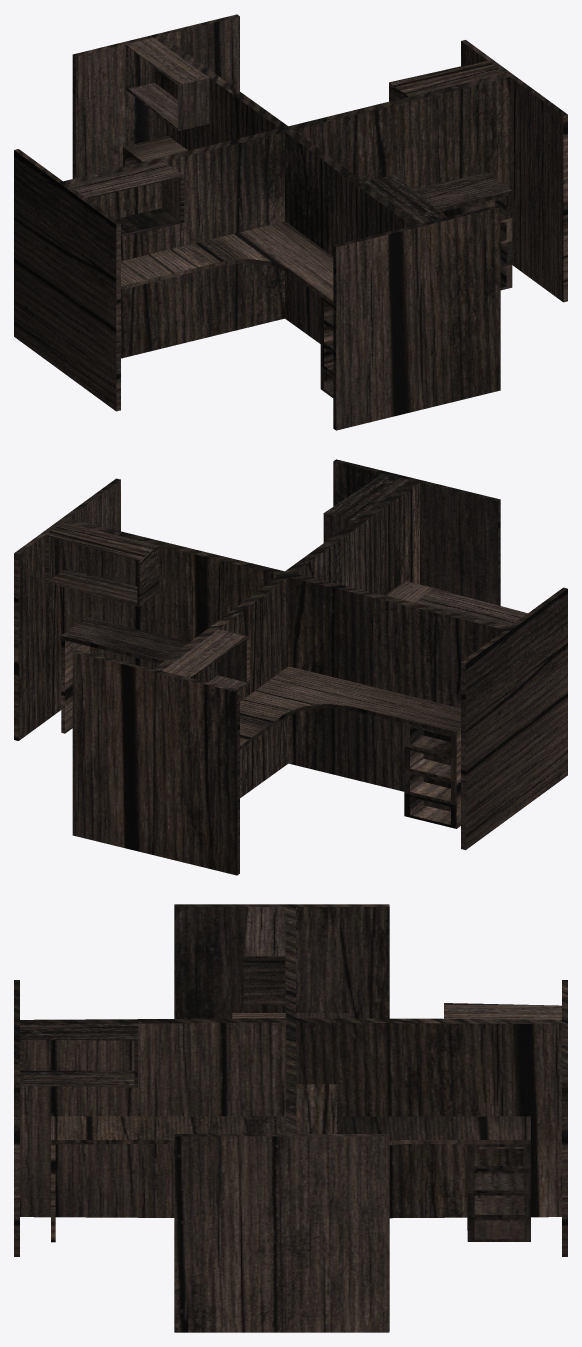
File: CubicalWalls.fbx
The picture shows the model from 3 angles, top to bottom: view 1: azimuth 30°, elevation 25°; view 2: azimuth 150°, elevation 25°; view 3: azimuth 270°, elevation 25°; orthographic projection. The views are drawn at different scales.
Parts seen in each view (by area): view 1: CubicalWalls; view 2: CubicalWalls; view 3: CubicalWalls.
Boxes of the visible parts, x1,y1,x2,y2 form: CubicalWalls: (14,14,567,430); CubicalWalls: (14,459,567,875); CubicalWalls: (14,904,567,1332).
Bounding box in the file's own units: 512 × 202 × 517.
